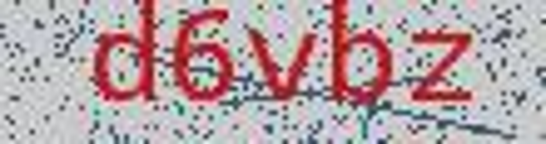6: (168, 1, 244, 135)
b: (325, 1, 402, 135)
d: (73, 1, 164, 122)
v: (240, 9, 321, 133)
z: (400, 12, 485, 117)
